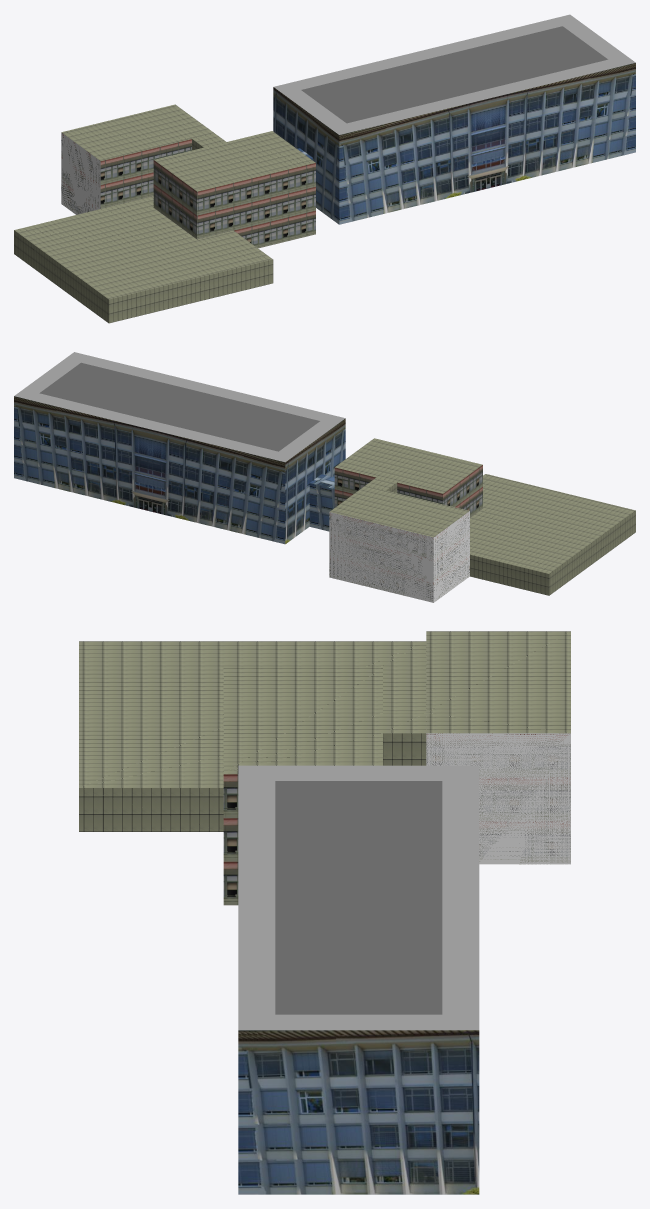
The model's file is KoPf_ZGK_lod3.dae.
3 renders of one model, top to bottom at view 1: azimuth 30°, elevation 25°; view 2: azimuth 150°, elevation 25°; view 3: azimuth 270°, elevation 25°, orthographic. The views are drawn at different scales.
Visible parts, largest first — view 1: SketchUp (×7); view 2: SketchUp (×7); view 3: SketchUp (×7).
Part boxes in pixels (box(x1,y1,x2,y2)): SketchUp (×7): box(14, 14, 635, 323); SketchUp (×7): box(14, 352, 635, 602); SketchUp (×7): box(79, 631, 570, 1194).
Bounding box in the file's own units: 4921 × 2008 × 739.
Materials: 6 (3 with a texture image).
